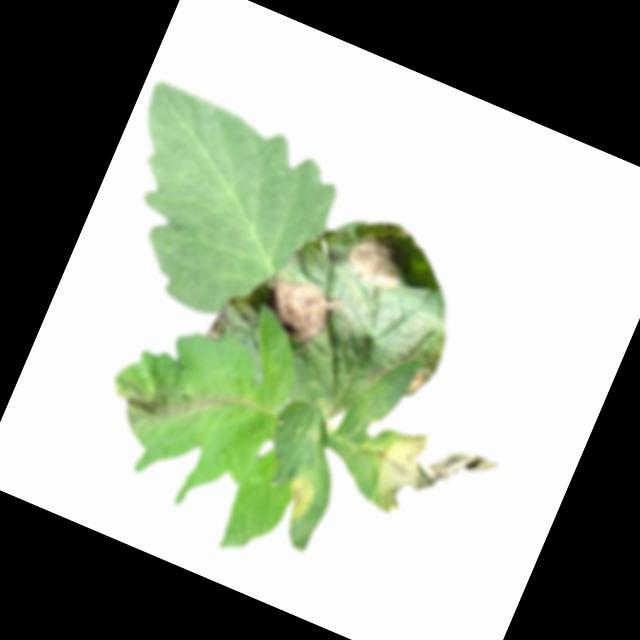Late_blight: (356, 414, 501, 545), (97, 356, 207, 451), (249, 266, 348, 359), (337, 221, 417, 294), (270, 468, 322, 530), (203, 308, 233, 343), (405, 362, 433, 397)
healthy: (78, 76, 355, 345)
